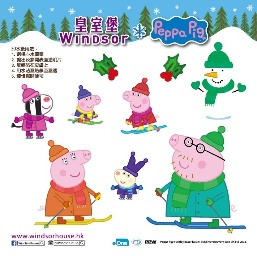Peppa: (122, 78, 159, 131)
